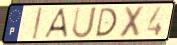4: (146, 6, 163, 38)
A: (42, 7, 70, 39)
D: (94, 7, 118, 38)
I: (32, 7, 44, 40)
U: (71, 6, 98, 39)
X: (117, 5, 146, 40)
